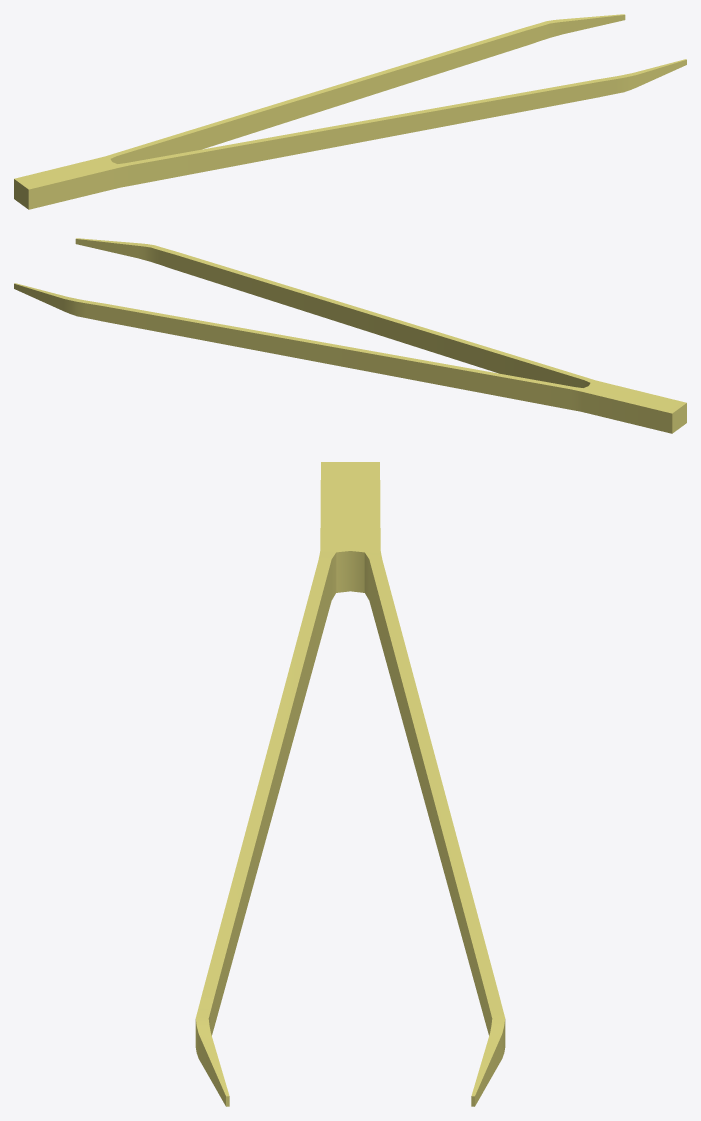
File: pinset.fbx
3 renders of one model, top to bottom at view 1: azimuth 30°, elevation 25°; view 2: azimuth 150°, elevation 25°; view 3: azimuth 270°, elevation 25°, orthographic. The views are drawn at different scales.
Parts seen in each view (by area): view 1: Plane.014; view 2: Plane.014; view 3: Plane.014.
Part boxes in pixels (<box>): Plane.014: <box>14,14,686,209</box>; Plane.014: <box>14,238,686,433</box>; Plane.014: <box>195,462,505,1106</box>.
Bounding box in the file's own units: 0.107 × 0.00333 × 0.0226.
